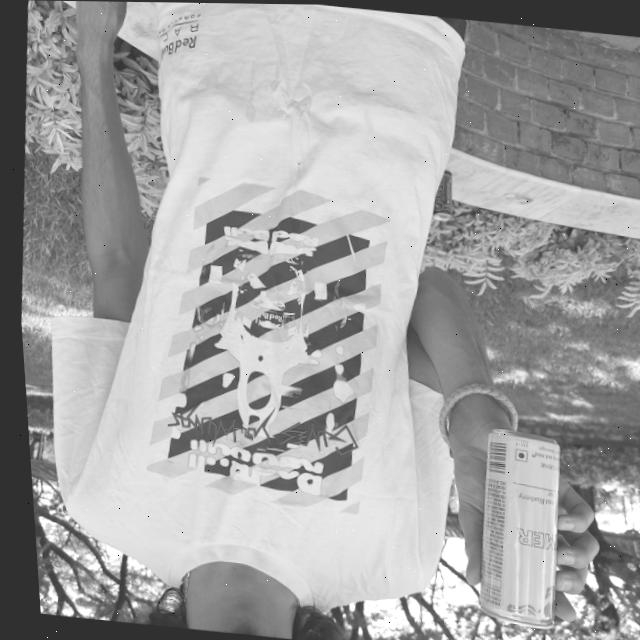Redbull Summer Edition: (456, 425, 566, 627)
